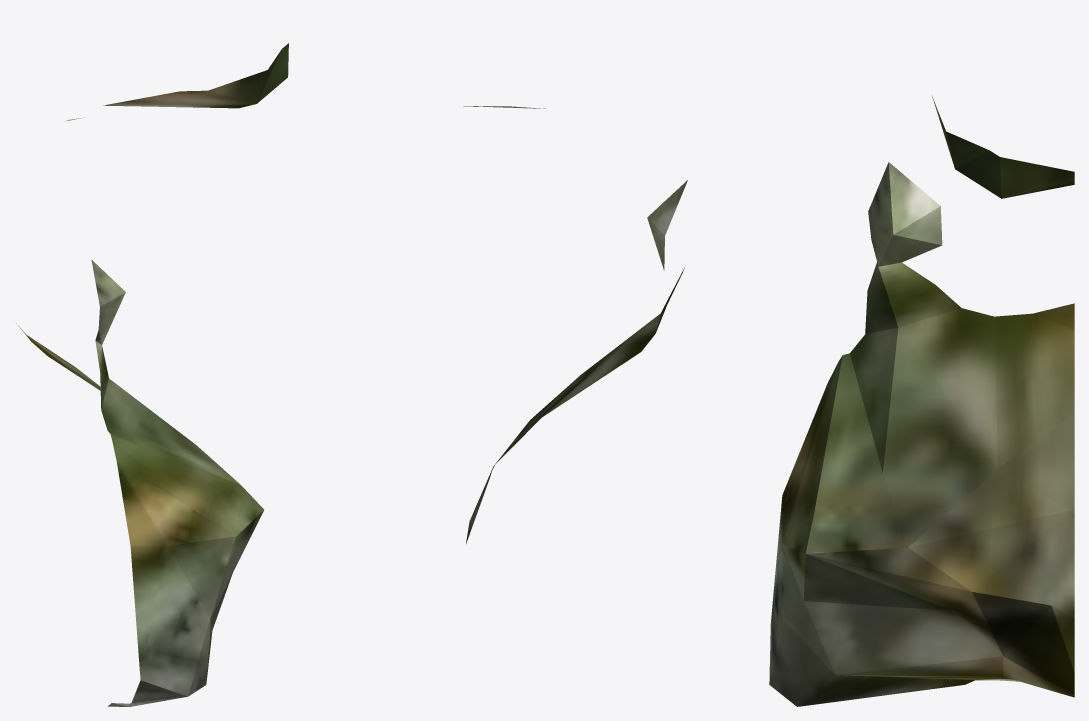
3 views of the same model, side by side, from view 1: azimuth 30°, elevation 25°; view 2: azimuth 150°, elevation 25°; view 3: azimuth 270°, elevation 25° (orthographic). The views are drawn at different scales.
Size of the model in its own units: 0.1392 by 0.2772 by 0.1138.
Materials: 1 (1 with a texture image).
